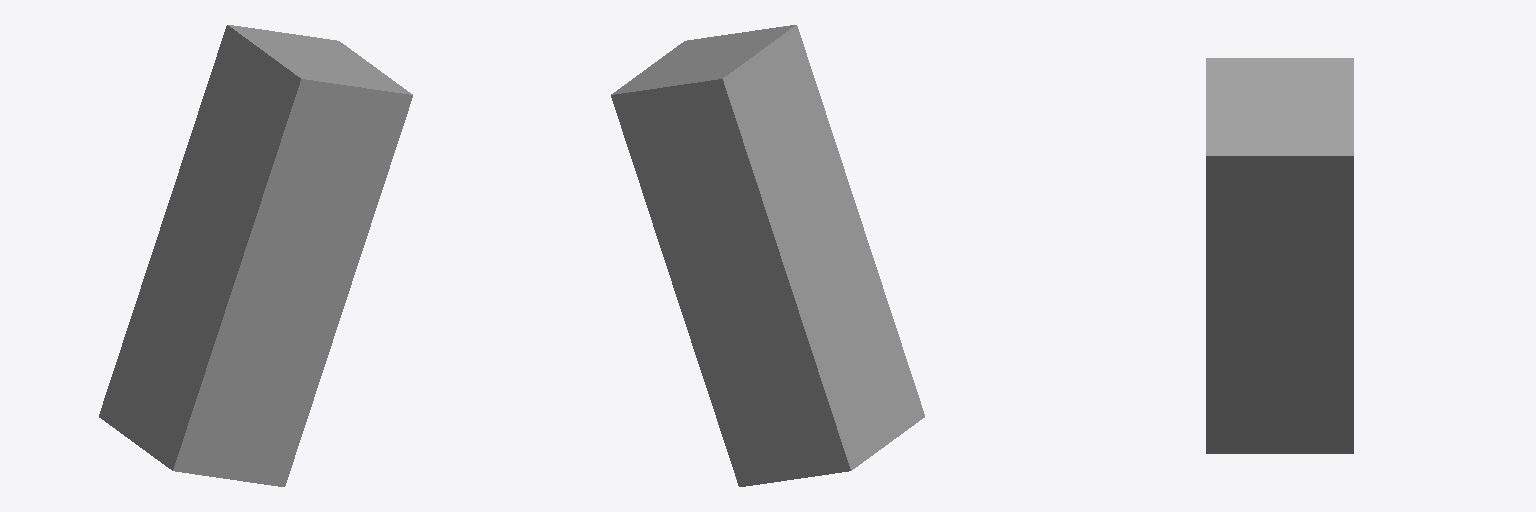
3 renders of one model, left to right at view 1: azimuth 30°, elevation 25°; view 2: azimuth 150°, elevation 25°; view 3: azimuth 270°, elevation 25°, orthographic.
Parts seen in each view (by area): view 1: Cube.003; view 2: Cube.003; view 3: Cube.003.
Part boxes in pixels (x1,y1,x2,y2): Cube.003: (99,25,412,486); Cube.003: (611,25,924,486); Cube.003: (1206,58,1353,453).
Bounding box in the file's own units: 1.02 × 1.64 × 0.5475.
Materials: 1 (1 with a texture image).